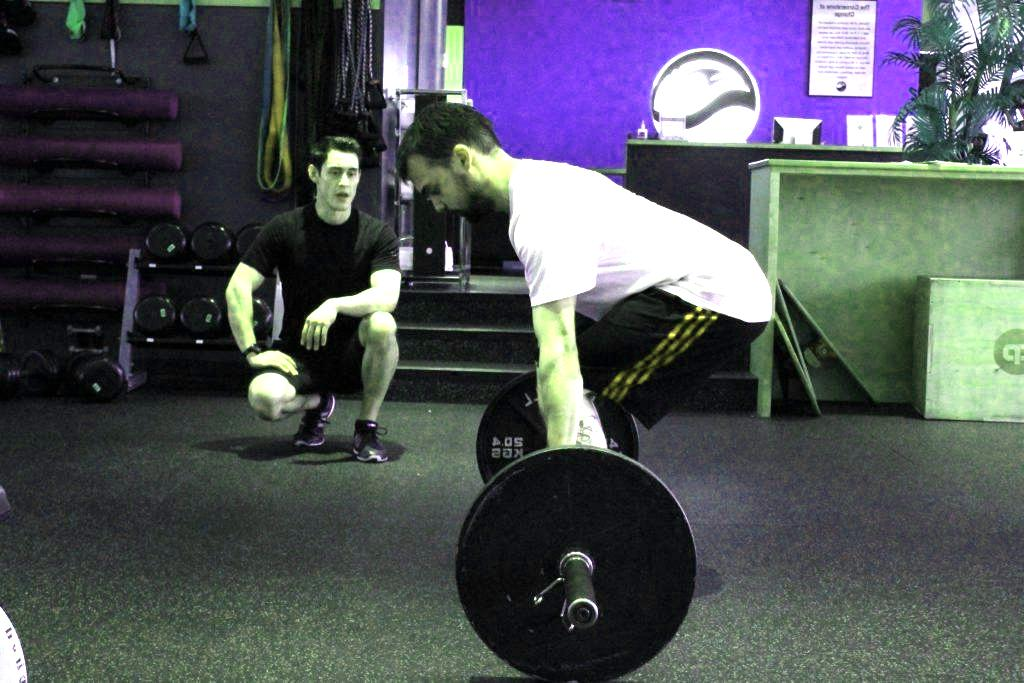Barbell: (559, 591, 606, 634)
